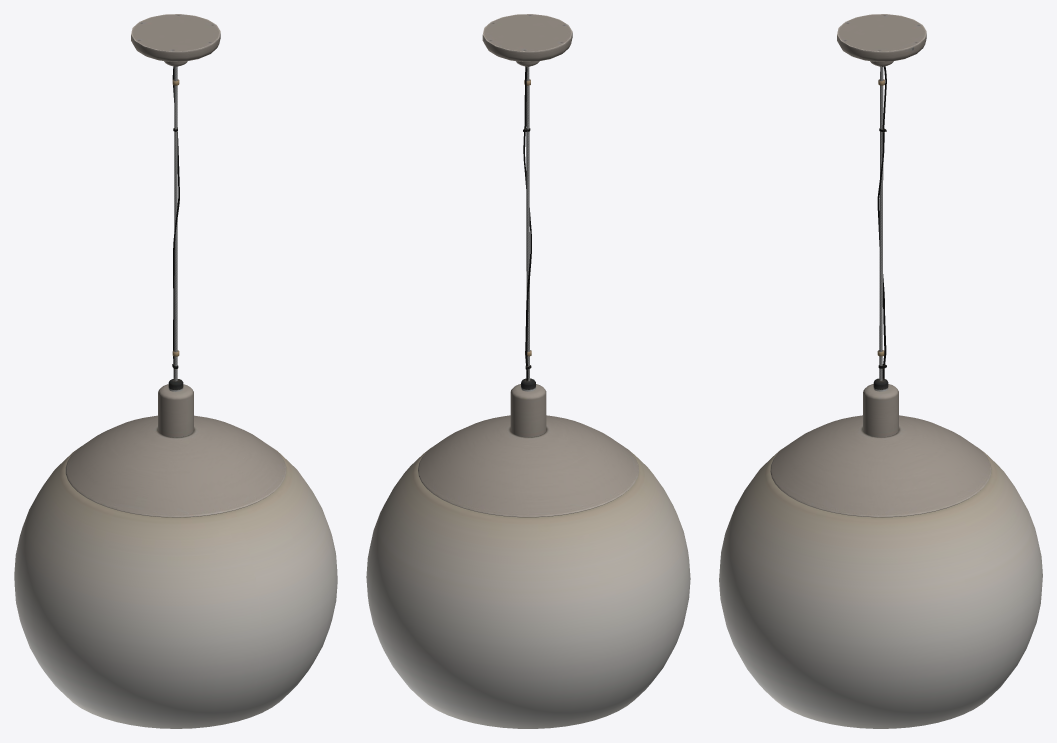
The model's file is modern_ceiling_lamp_01_1k.glb.
The picture shows the model from 3 angles, left to right: view 1: azimuth 30°, elevation 25°; view 2: azimuth 150°, elevation 25°; view 3: azimuth 270°, elevation 25°; orthographic projection.
Visible parts, largest first — view 1: modern_ceiling_lamp_01; view 2: modern_ceiling_lamp_01; view 3: modern_ceiling_lamp_01.
Part boxes in pixels (<box>): modern_ceiling_lamp_01: <box>14,14,337,728</box>; modern_ceiling_lamp_01: <box>366,14,690,728</box>; modern_ceiling_lamp_01: <box>719,14,1042,728</box>.
Size of the model in its own units: 0.4316 by 0.9516 by 0.4317.
3 materials, 3 textured.
